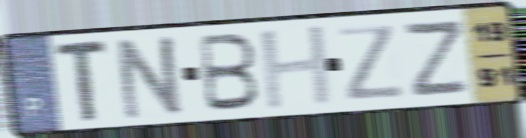B: (197, 31, 262, 114)
H: (256, 21, 338, 113)
N: (114, 31, 188, 122)
T: (54, 36, 111, 125)
Z: (335, 22, 409, 104), (404, 17, 472, 100)
